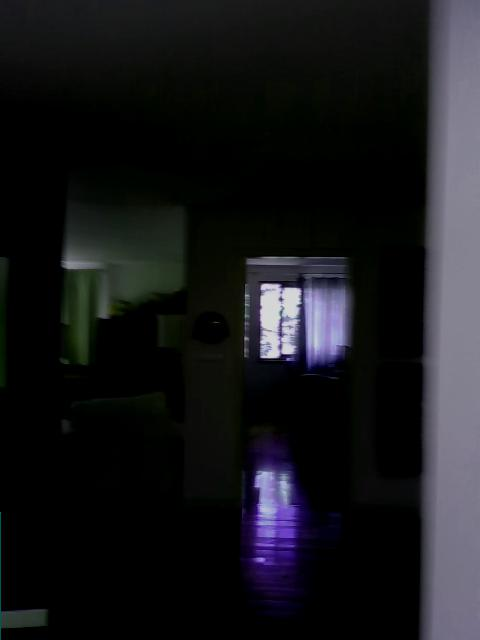open_door: (236, 247, 361, 523)
